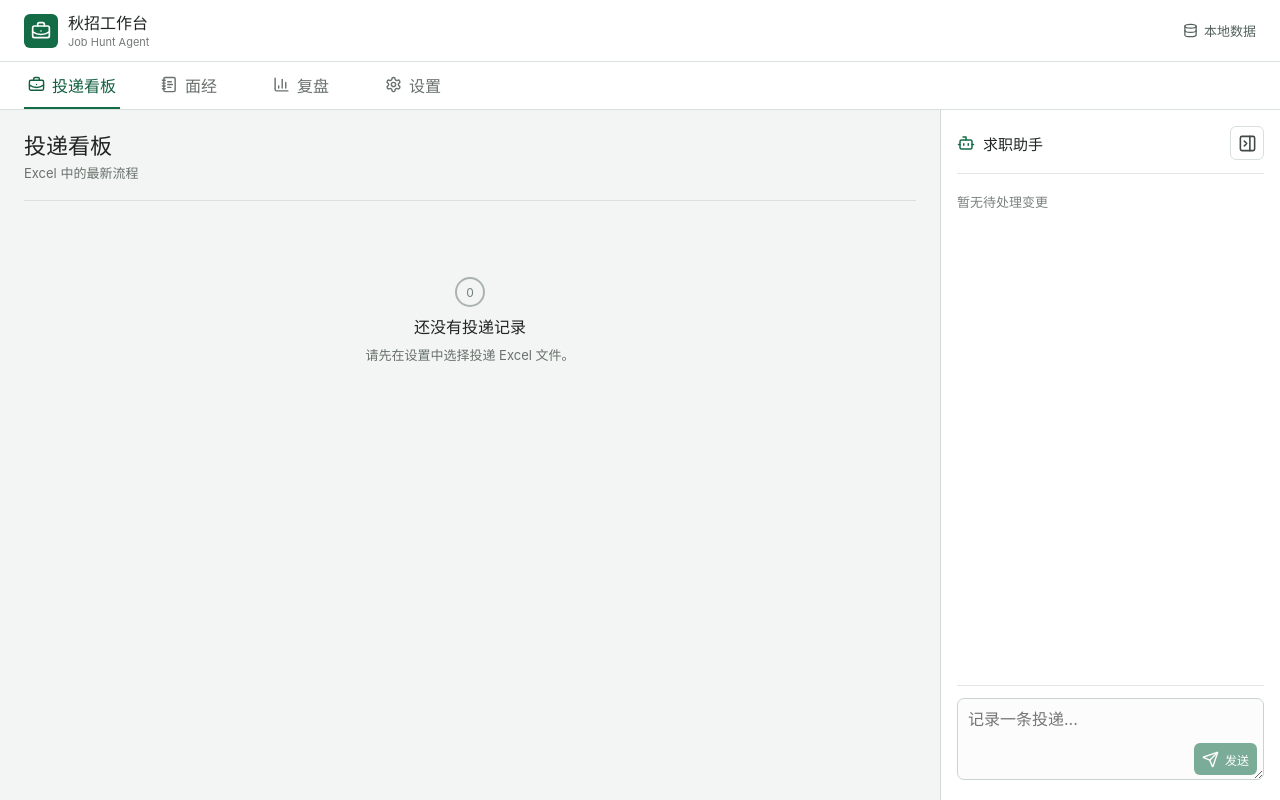
App › collapses and restores the assistant workspace
The image size is (1280, 800).
Click the button named "收起助手" at (1247,143), box [1230,126,1264,160]
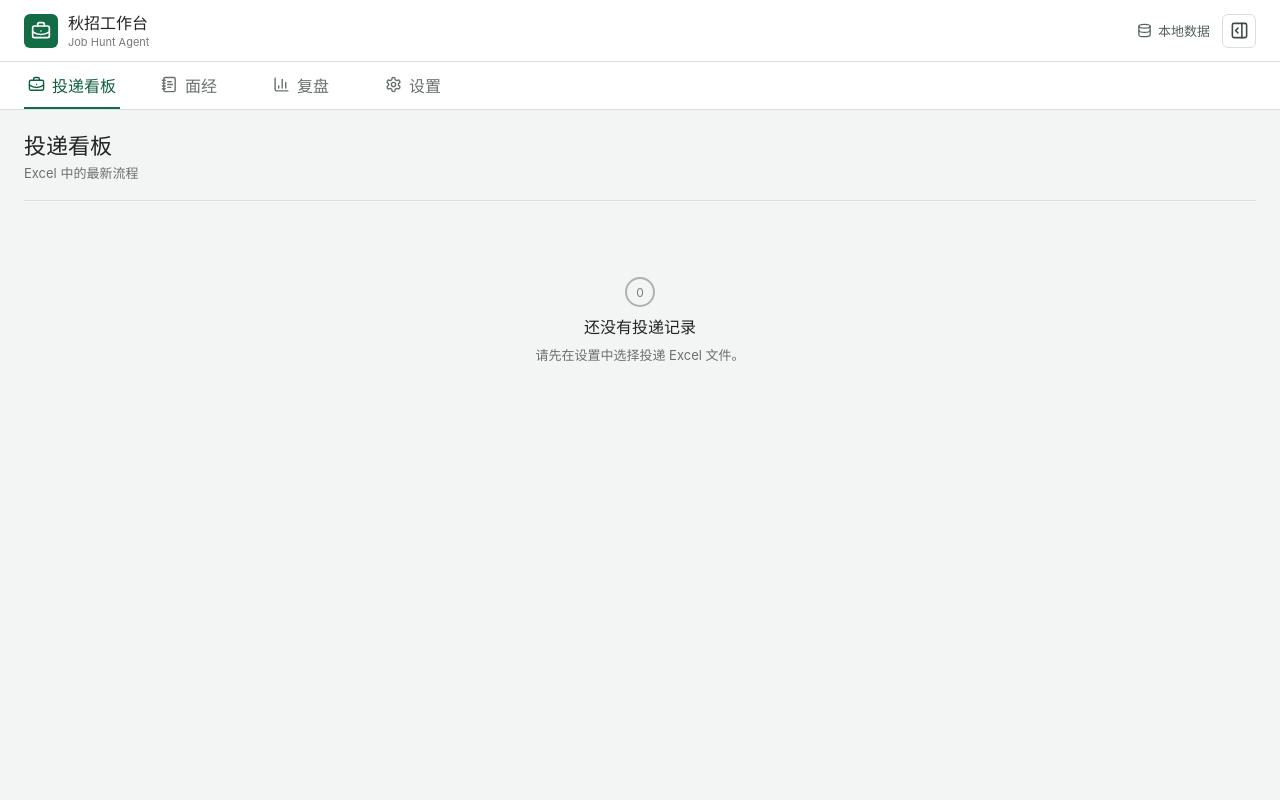
Check: the heading "求职助手" is gone
Click the button named "展开助手" at (1239,30), box [1222,14,1256,48]
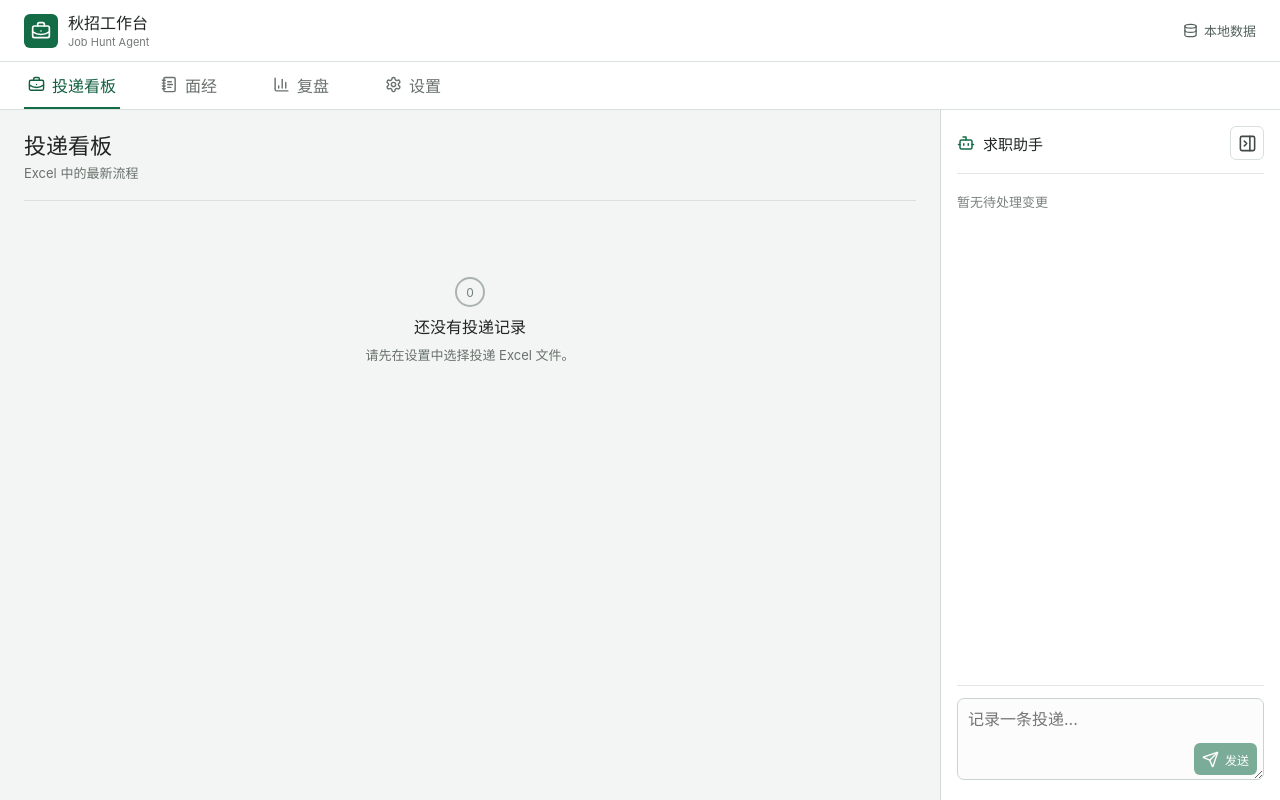
Check: the element "求职助手" is shown, box [940,110,1279,799]
